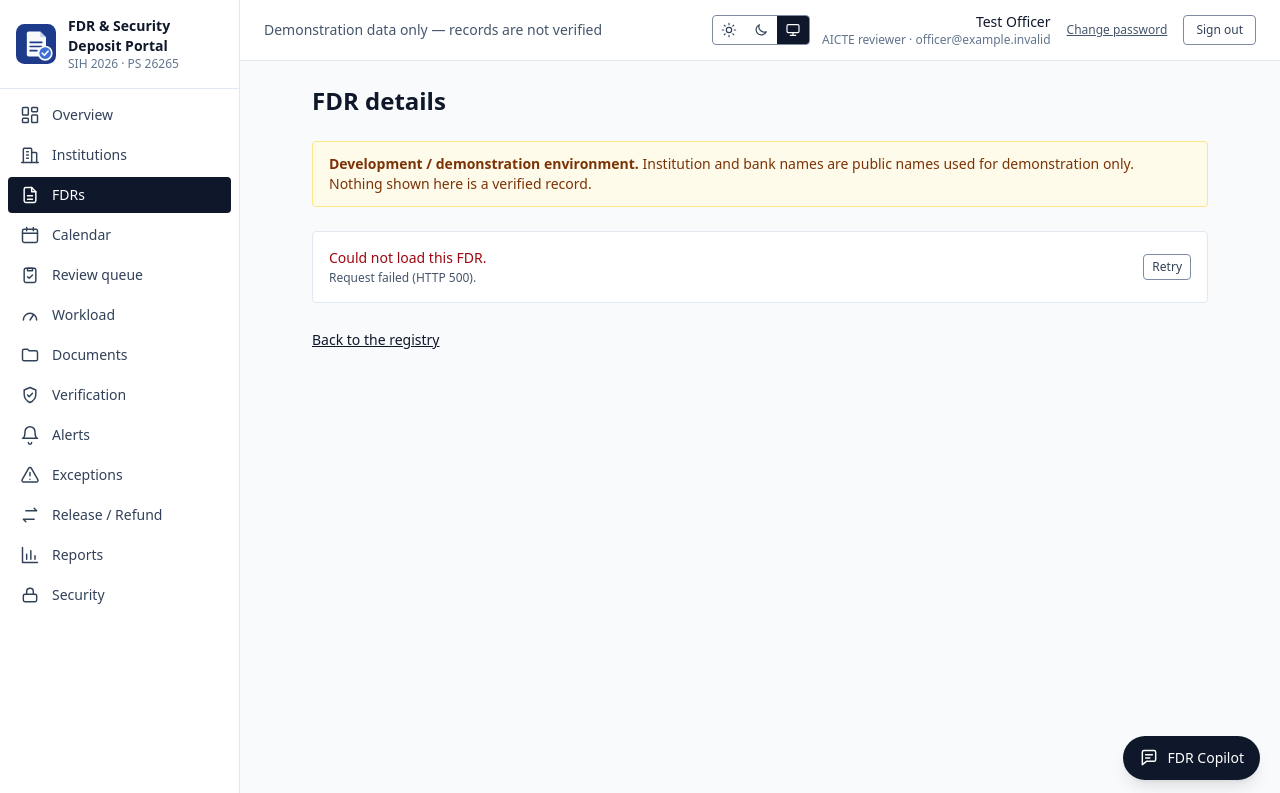
it: FDR details page › says so, with a retry, when the record cannot be loaded, instead of showing blanks
This screenshot has width=1280, height=793.
Check: the heading "FDR details" is shown, box top-left (312, 84), bottom-right (446, 117)
Check: the message shows "Could not load this FDR", box top-left (312, 231), bottom-right (1208, 303)
Click the button "Retry": (1167, 267) top-left (1143, 254), bottom-right (1191, 280)
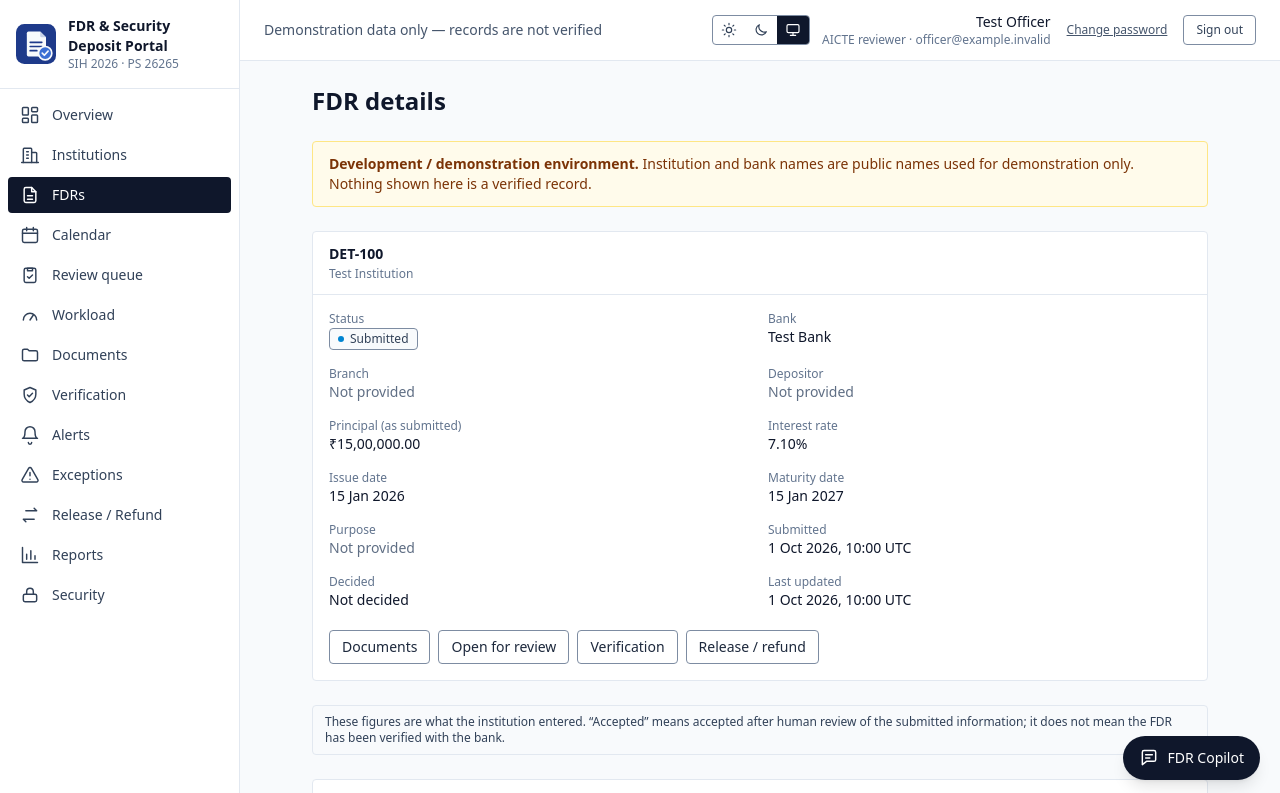
Check: the element "DET-100" is shown, box top-left (312, 231), bottom-right (1208, 681)
